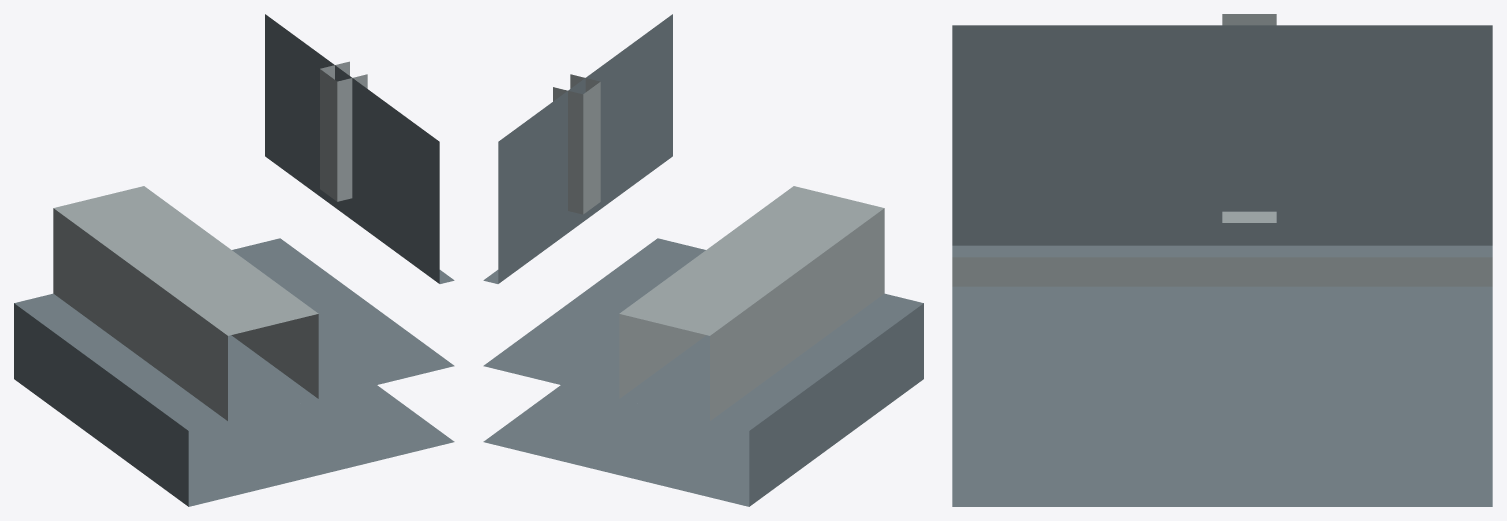
The model's file is cell_25.obj.
3 renders of one model, left to right at view 1: azimuth 30°, elevation 25°; view 2: azimuth 150°, elevation 25°; view 3: azimuth 270°, elevation 25°, orthographic. The views are drawn at different scales.
Size of the model in its own units: 0.88 by 0.96 by 1.
